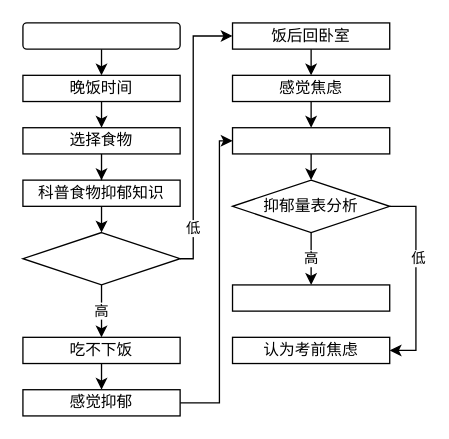
This 449x439 diagram has some shape labels left out. Here are the shapes that lost their labels. From the top down, the box of each, then its label:
(22, 22, 180, 49): 第三章
(231, 126, 390, 154): 查询抑郁症
(22, 231, 180, 285): 抑郁值判断
(231, 284, 390, 311): 怀疑抑郁
